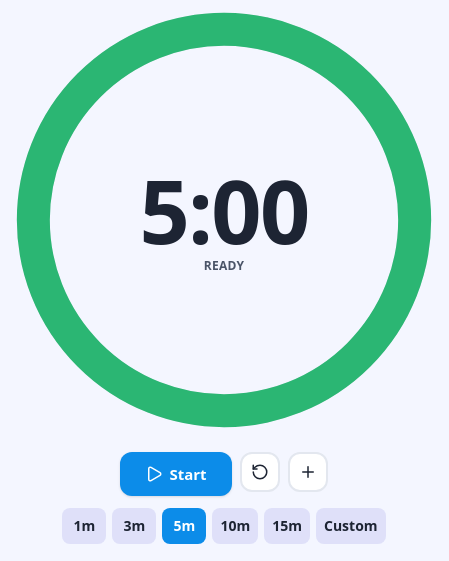
Scenario: Timer widget › starts, pauses, resumes and resets
Expected: the button with test id "timer-display" reads "5:00", x1=132 y1=166 x2=317 y2=254
Click the button with aria-label "Start timer" at (176, 474), box x1=120 y1=452 x2=232 y2=496
Wait 3000 ms
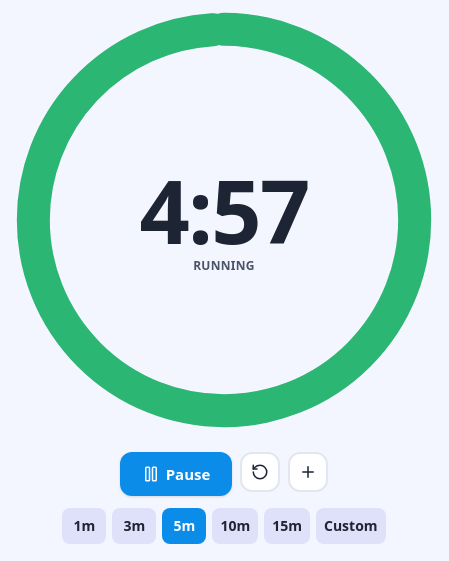
Now the text with test id "timer-status" reads "Running", box x1=193 y1=257 x2=255 y2=274
Now the button with test id "timer-display" reads "4:57", box x1=132 y1=166 x2=317 y2=254
Click the button with aria-label "Pause timer" at (176, 474), box x1=120 y1=452 x2=232 y2=496
Wait 10000 ms
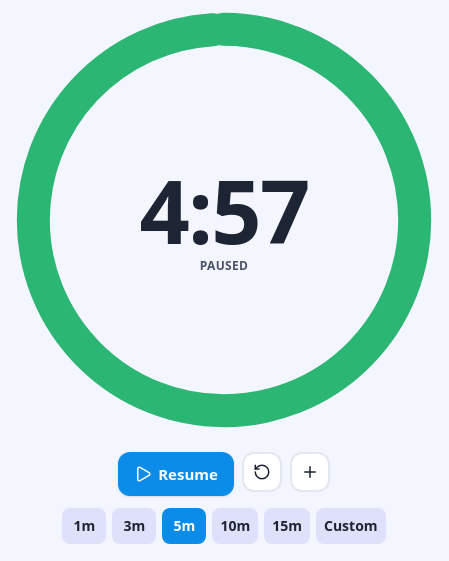
Now the button with test id "timer-display" reads "4:57", box x1=132 y1=166 x2=317 y2=254
Now the text with test id "timer-status" reads "Paused", box x1=200 y1=257 x2=248 y2=274
Click the button with aria-label "Resume timer" at (176, 474), box x1=118 y1=452 x2=234 y2=496
Wait 2000 ms
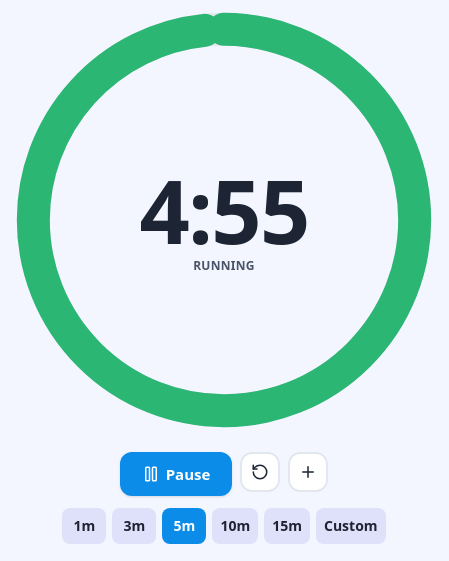
Now the button with test id "timer-display" reads "4:55", box x1=132 y1=166 x2=317 y2=254
Click the button named "Reset timer" at (260, 472), box x1=240 y1=452 x2=280 y2=492
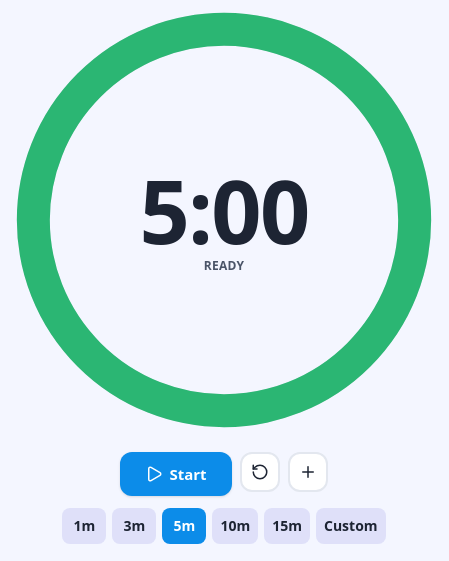
Now the button with test id "timer-display" reads "5:00", box x1=132 y1=166 x2=317 y2=254
Now the text with test id "timer-status" reads "Ready", box x1=204 y1=257 x2=244 y2=274
